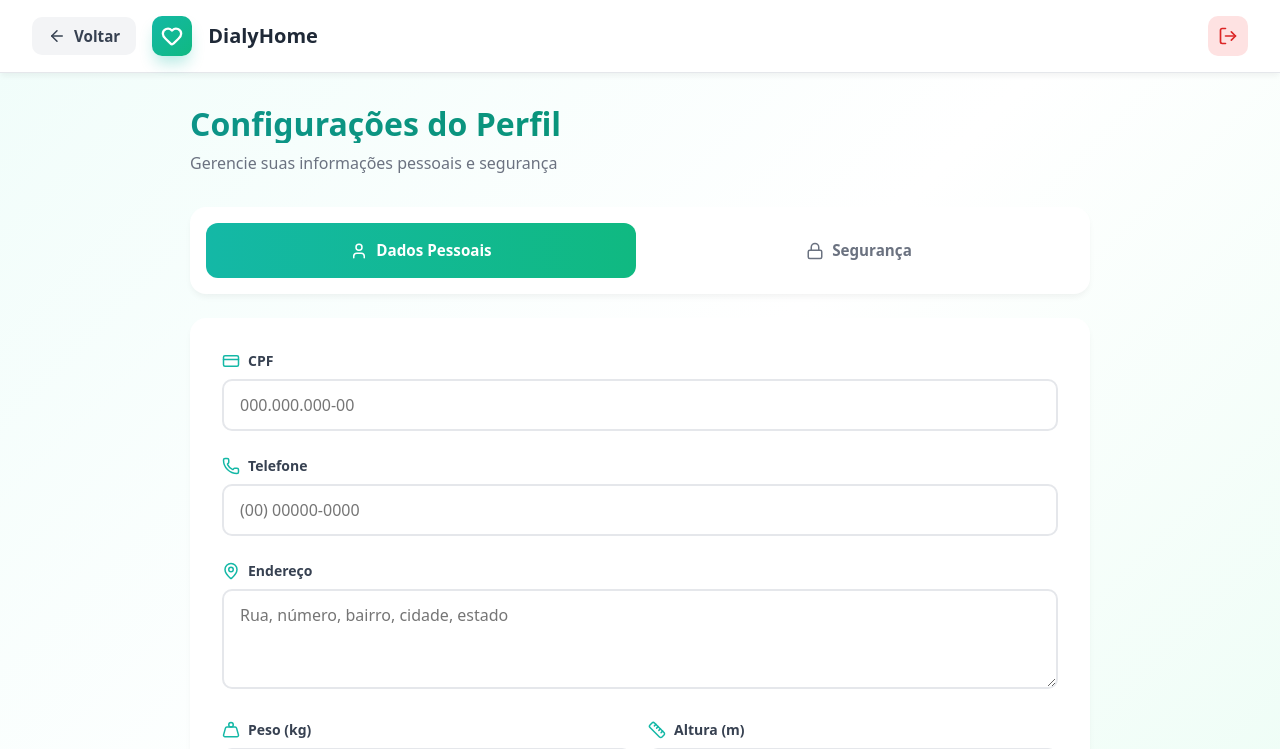
Scenario: 🧪 PatientProfile › valida troca de senha com campos vazios
Expected: the button "Dados Pessoais" is shown, [206,223,636,278]
Step 1. Click the button "Segurança" → (859, 251), box [644,223,1074,278]
(page scrolled)
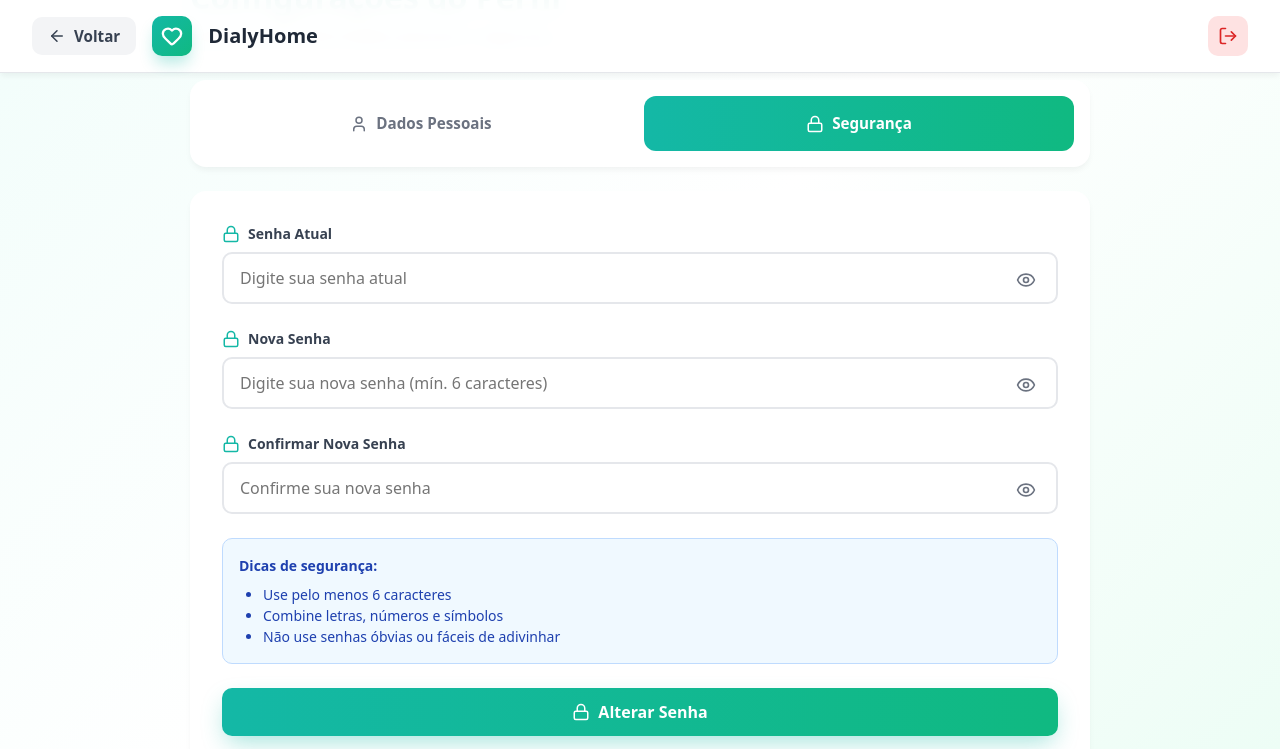
Step 2. Submit the form from the button "Alterar Senha", box [222,688,1058,736]
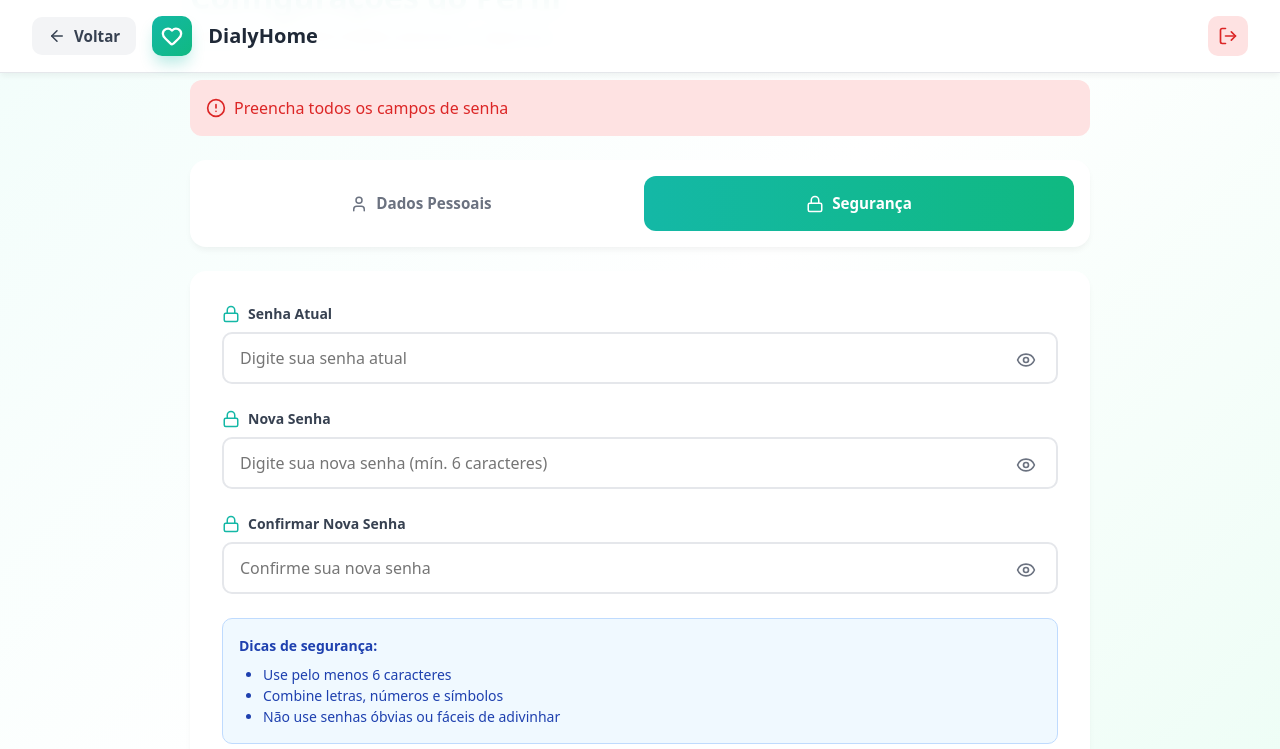
Result: the text "Preencha todos os campos de senha" is shown at [190,80,1090,136]
